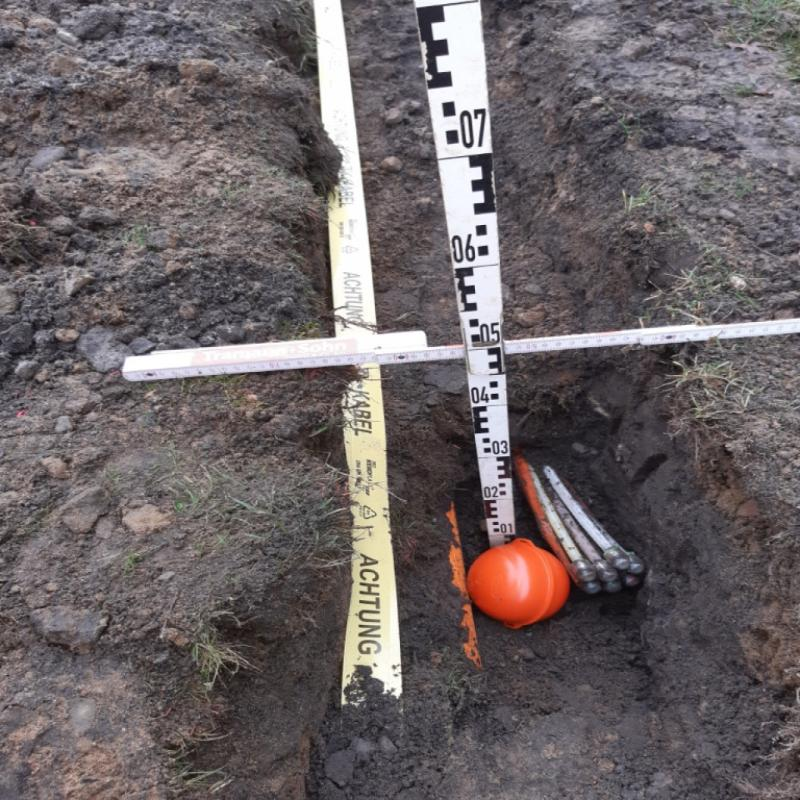Kugelmarker: (467, 537, 568, 625)
Orang-Speednetrohrchen: (445, 513, 479, 663)
